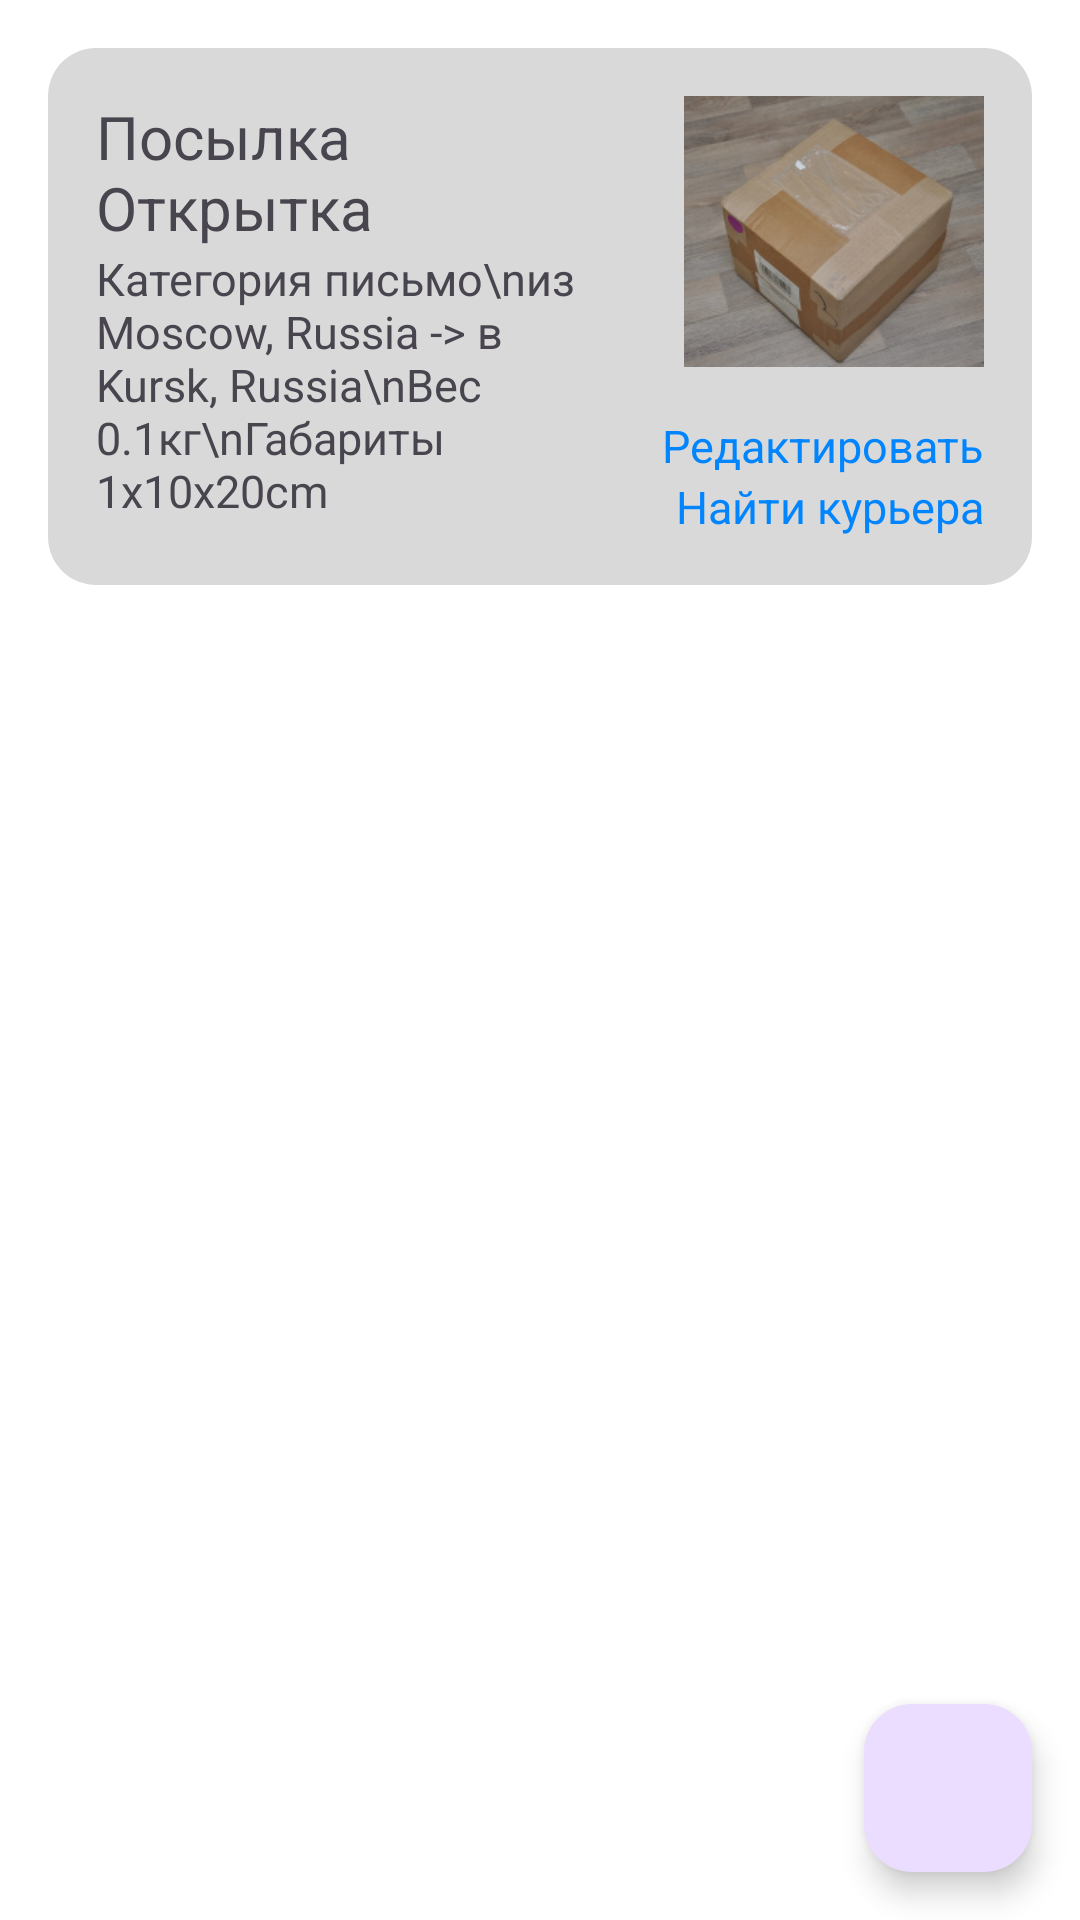

Icons on this 1080×1920 Android screen, each with the point to tap as (x,y):
box example: (834,231)
